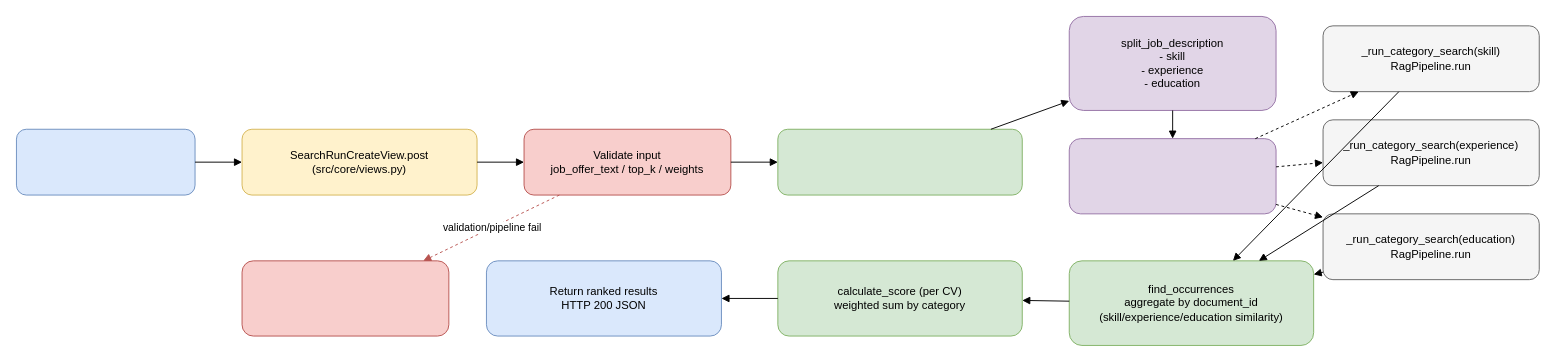
This 1556x362 diagram has some shape labels left out. Each missing label, with the centre of its shape:
"Client POST /api/search-runs" belongs at [105,161].
"CvScreenPipeline.run (src/core/retrieve/pipeline.py)" belongs at [899,161].
"Errors: - 400 validation - 500 pipeline exception" belongs at [345,298].
"semantic_search(job_details) parallel 3 categories" belongs at [1172,176].
